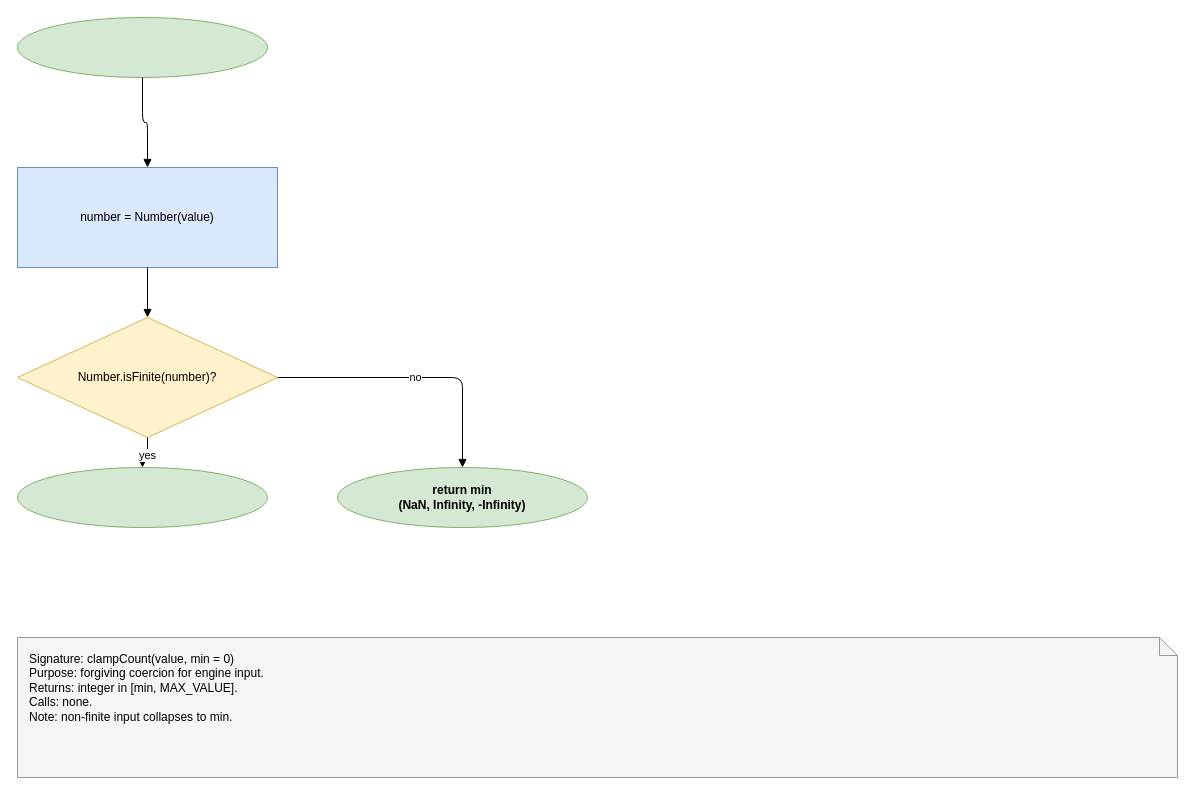
This 1195x795 diagram has some shape labels left out. The shapes that lost their labels are listed below. From the top down, each one's centre as x and y in pixels, then its label:
At (142,47): "clampCount(value, min = 0)".
At (142,497): "return min(max(floor(number), min), MAX_VALUE)".
